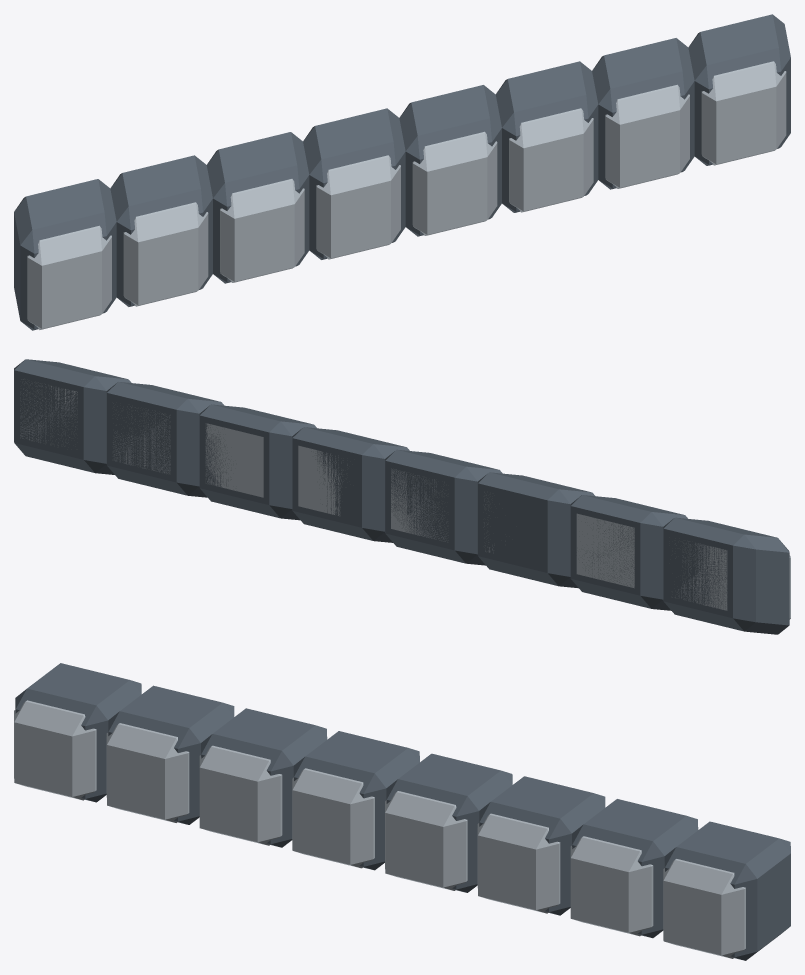
Rendered from Terrain_Block8x1.gltf.
3 views of the same model, one above another, from view 1: azimuth 30°, elevation 25°; view 2: azimuth 150°, elevation 25°; view 3: azimuth 330°, elevation 25° (orthographic). The views are drawn at different scales.
Parts seen in each view (by area): view 1: Terrain_Block8x1_baked; view 2: Terrain_Block8x1_baked; view 3: Terrain_Block8x1_baked.
Boxes of the visible parts, x1=… form: Terrain_Block8x1_baked: x1=14, y1=14, x2=790, y2=330; Terrain_Block8x1_baked: x1=14, y1=359, x2=790, y2=634; Terrain_Block8x1_baked: x1=14, y1=663, x2=790, y2=960.
Bounding box in the file's own units: 8.15 × 1.15 × 0.7.
